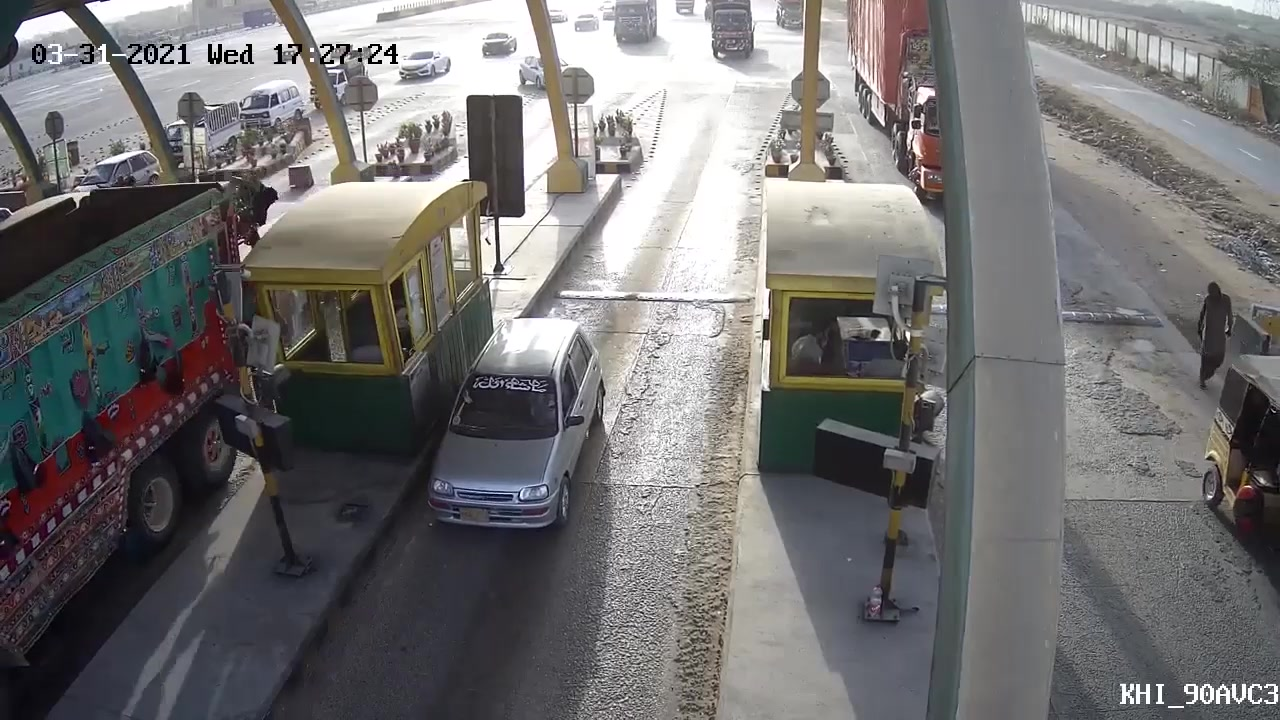F1: (422, 314, 620, 544)
